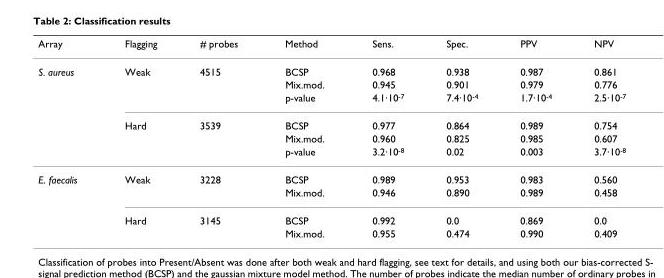table: (37, 37, 625, 239)
table column: (260, 37, 347, 239), (177, 37, 260, 239), (100, 37, 177, 239), (347, 37, 424, 239), (424, 37, 498, 239), (498, 37, 572, 239), (37, 37, 100, 239), (572, 37, 625, 239)
table column header: (37, 37, 625, 57)
table row: (37, 90, 625, 111), (37, 144, 625, 165), (37, 185, 625, 206), (37, 37, 625, 57), (37, 57, 625, 77), (37, 111, 625, 131), (37, 165, 625, 185), (37, 206, 625, 226), (37, 77, 625, 90), (37, 131, 625, 144), (37, 226, 625, 239)
table spanning cell: (37, 57, 100, 165), (37, 165, 100, 239)
